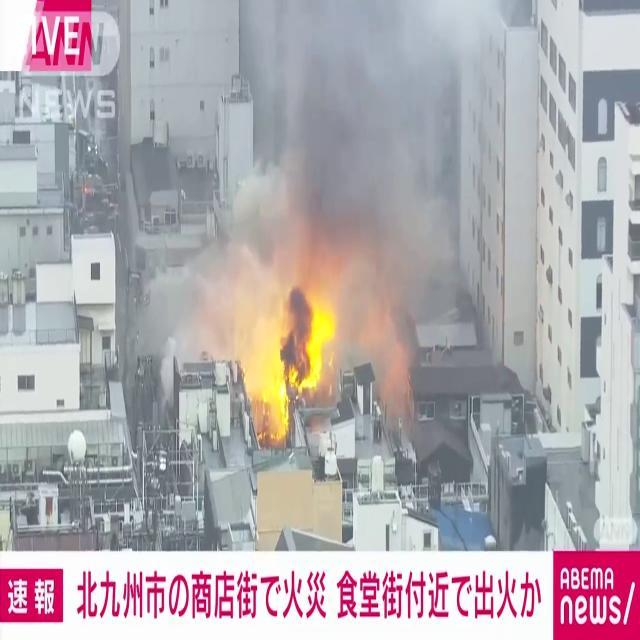Fire: (222, 252, 338, 442)
Smoke: (238, 1, 527, 328)
